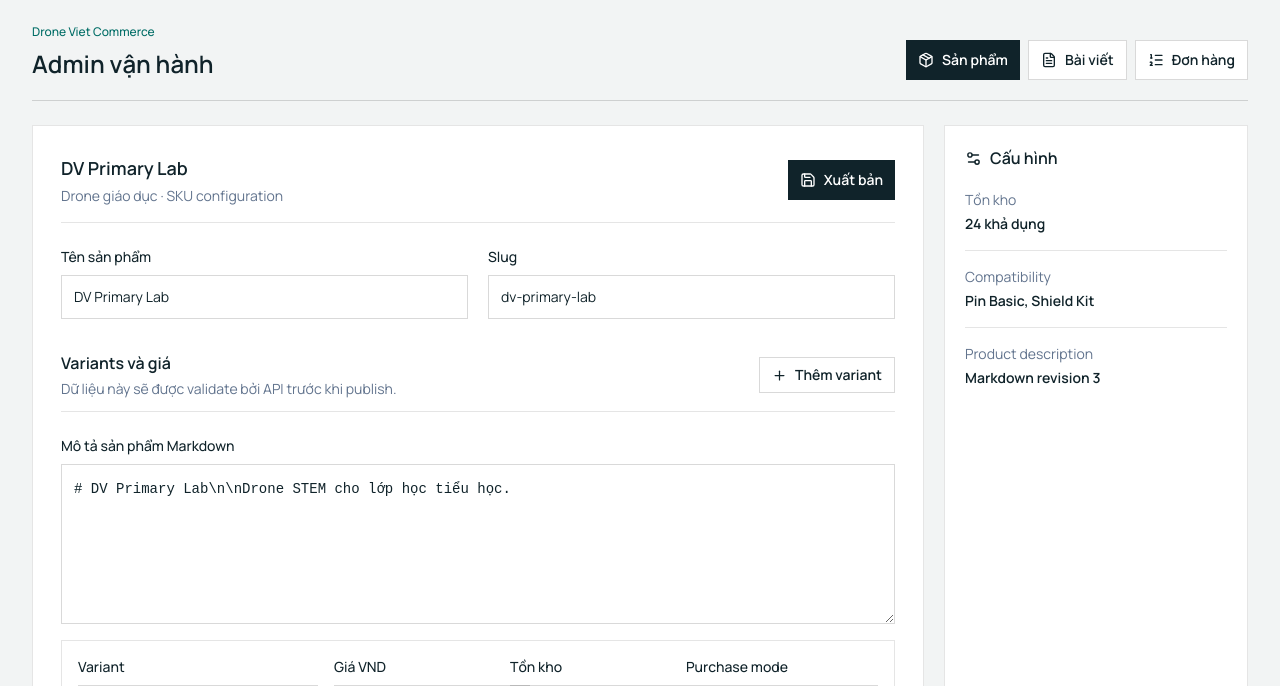
it: AdminWorkbench › does not offer direct cancellation for a pending PayOS order
Click the button "Đơn hàng" at x=1191, y=60, box [1135,40,1248,80]
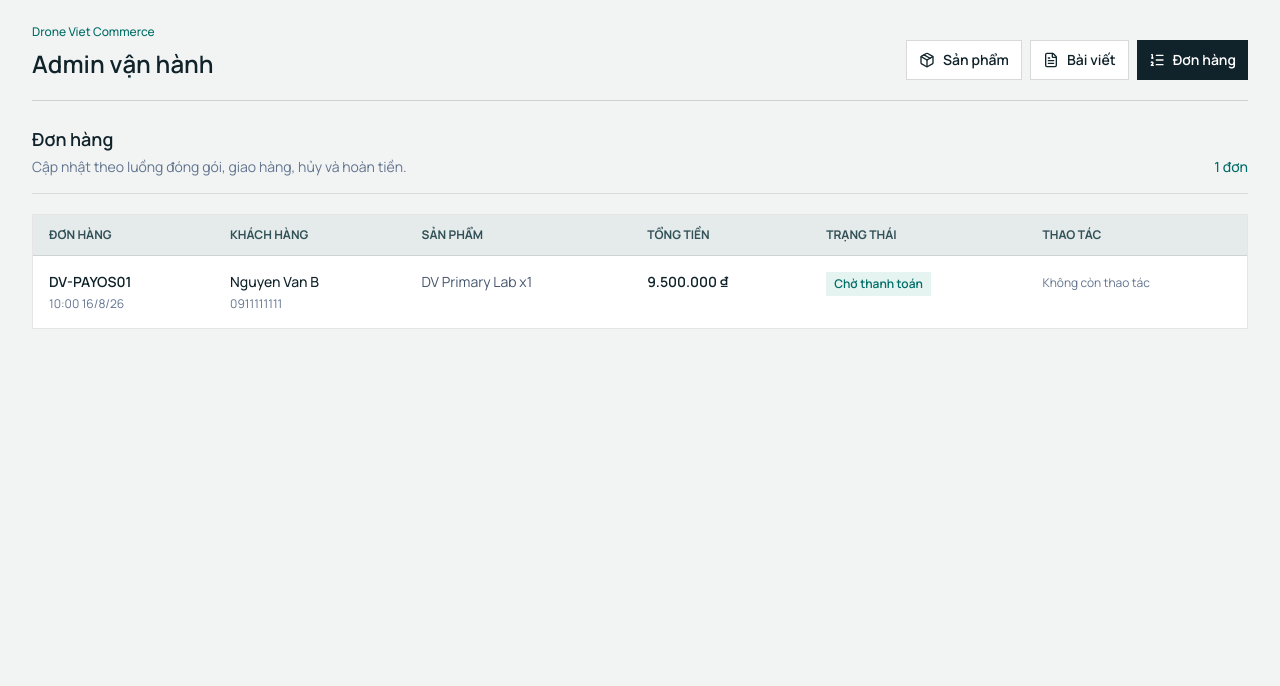
Now the text "DV-PAYOS01" is shown, box [49,272,131,291]
Now the text "Không còn thao tác" is shown, box [1042,274,1150,291]
